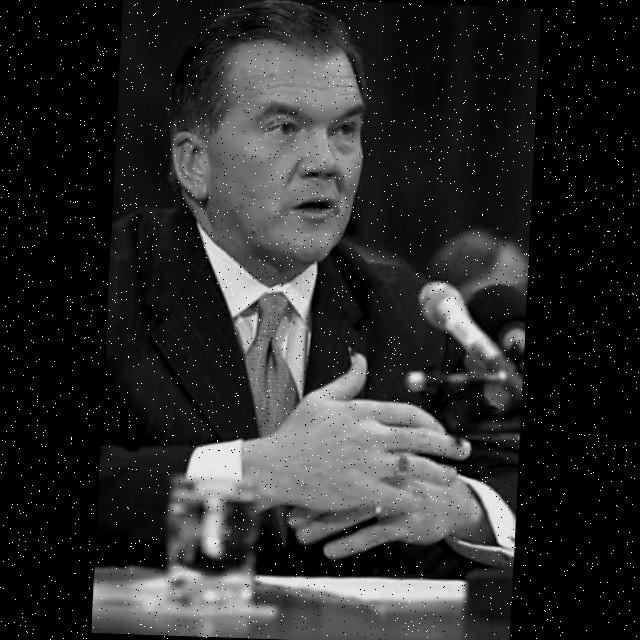face: (188, 19, 382, 282)
